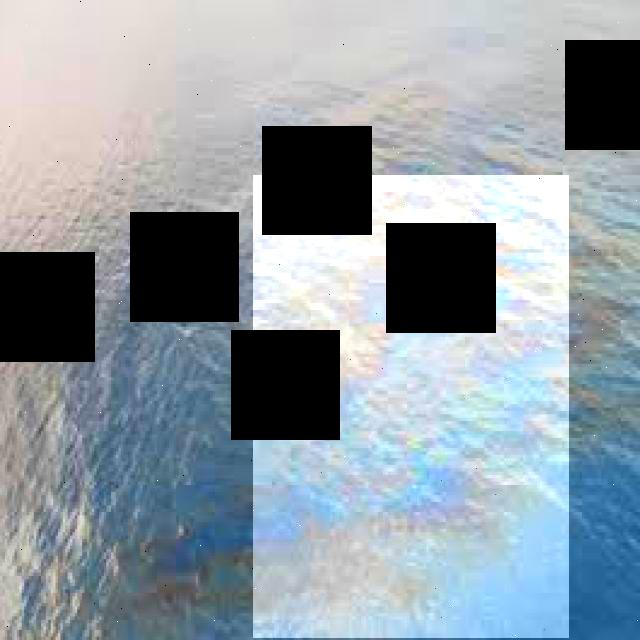oil spill: (253, 175, 569, 638)
